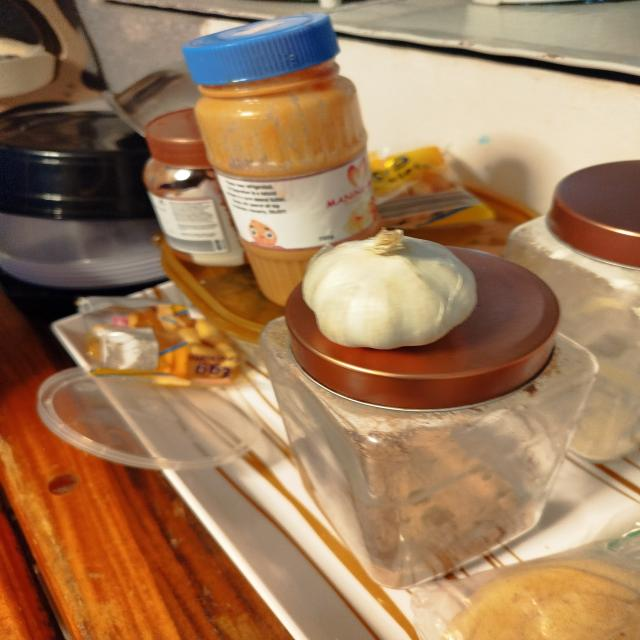garlic: (301, 226, 478, 350)
